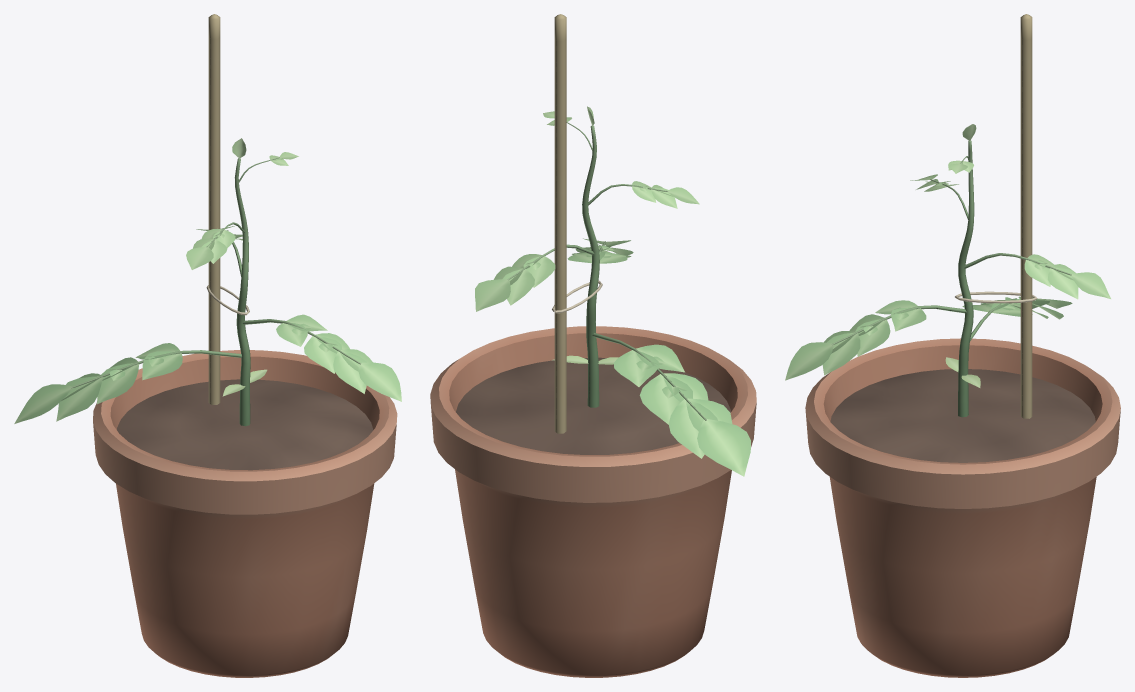
The model's file is tomato_stage2.glb.
3 renders of one model, left to right at view 1: azimuth 30°, elevation 25°; view 2: azimuth 150°, elevation 25°; view 3: azimuth 270°, elevation 25°, orthographic. The views are drawn at different scales.
Visible parts, largest first — view 1: tomato_stage2; view 2: tomato_stage2; view 3: tomato_stage2.
Part boxes in pixels (left/top/right/bottom): tomato_stage2: left=14, top=14, right=401, bottom=677; tomato_stage2: left=430, top=14, right=756, bottom=677; tomato_stage2: left=785, top=14, right=1120, bottom=677.
Size of what is drawn, in the model's own units: 0.2696 by 0.4865 by 0.2384.
